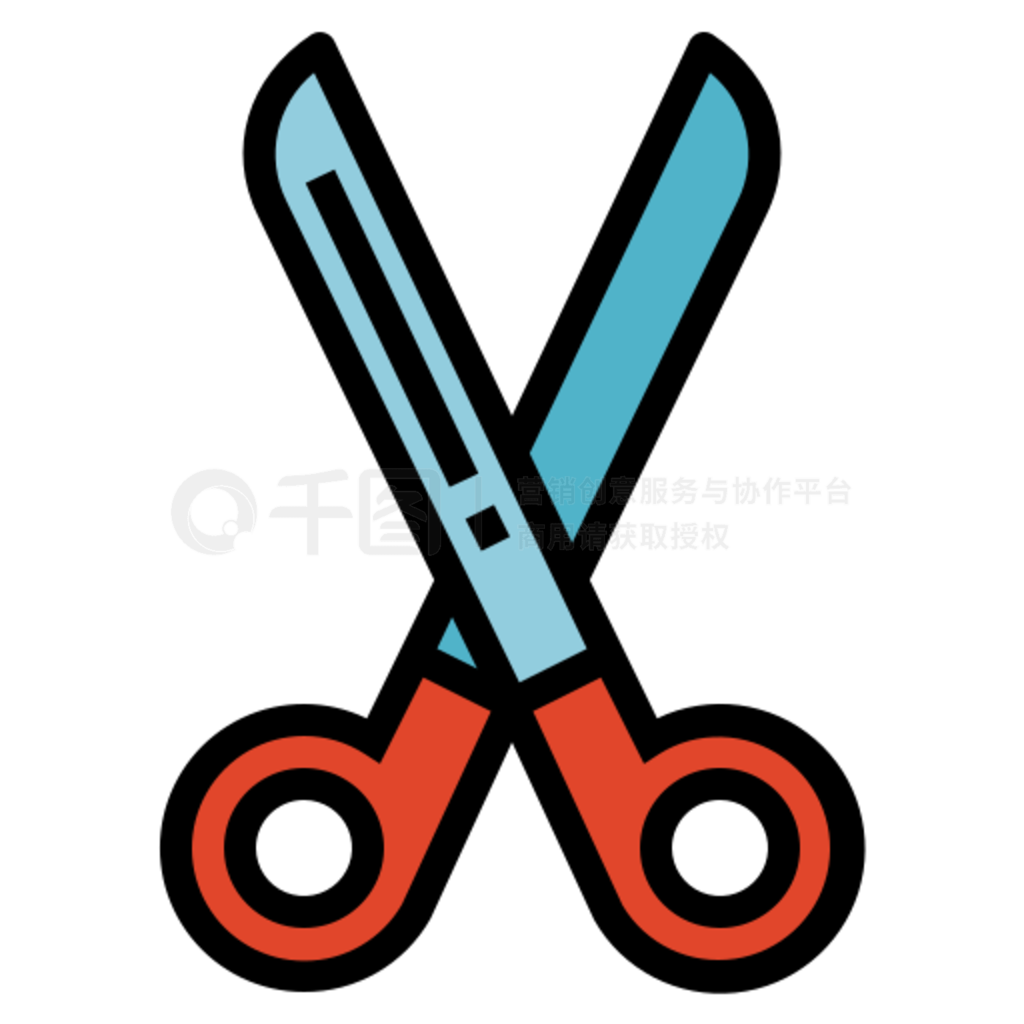scissors: (117, 23, 902, 1002)
